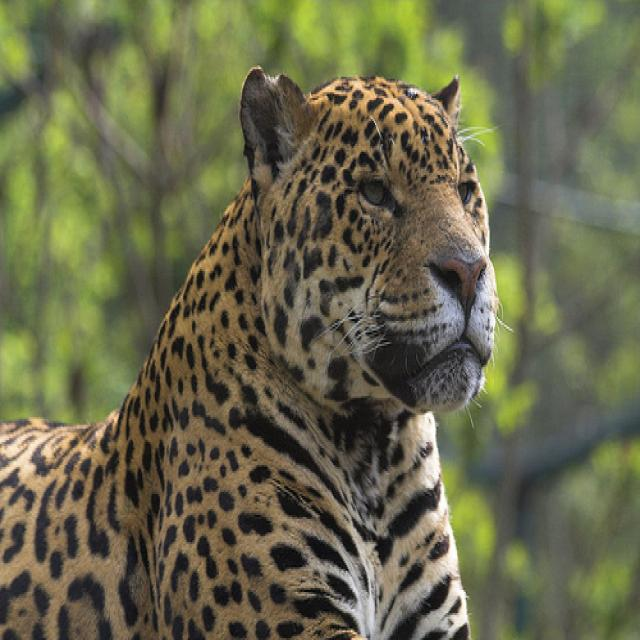Leopard: (0, 59, 513, 636)
